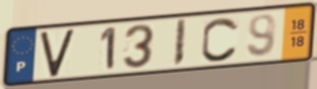1: (98, 25, 117, 72)
3: (120, 23, 156, 71)
9: (246, 13, 279, 59)
C: (199, 16, 241, 64)
I: (171, 17, 189, 68)
V: (38, 26, 77, 79)
